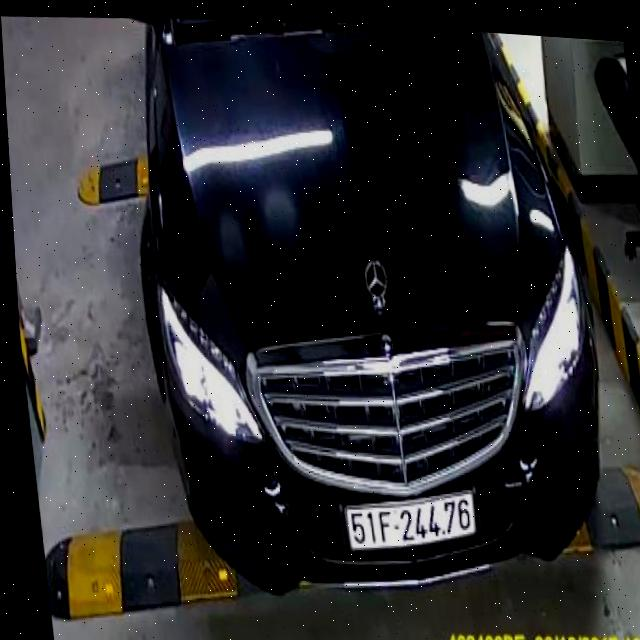car: (113, 8, 635, 631)
plate: (340, 485, 482, 561)
